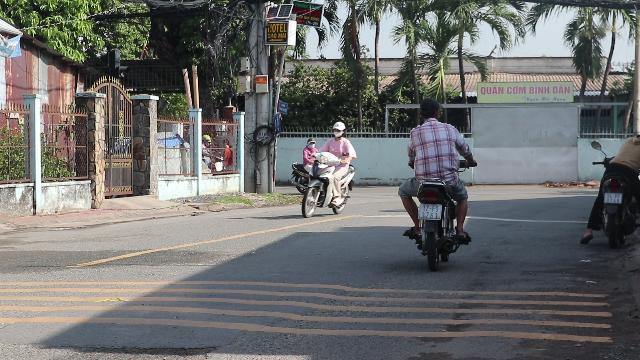licenseplate: (419, 204, 441, 220), (604, 193, 622, 203)
motorcyclist: (395, 96, 475, 266), (584, 127, 640, 245)
nohelmet: (418, 98, 442, 122)
